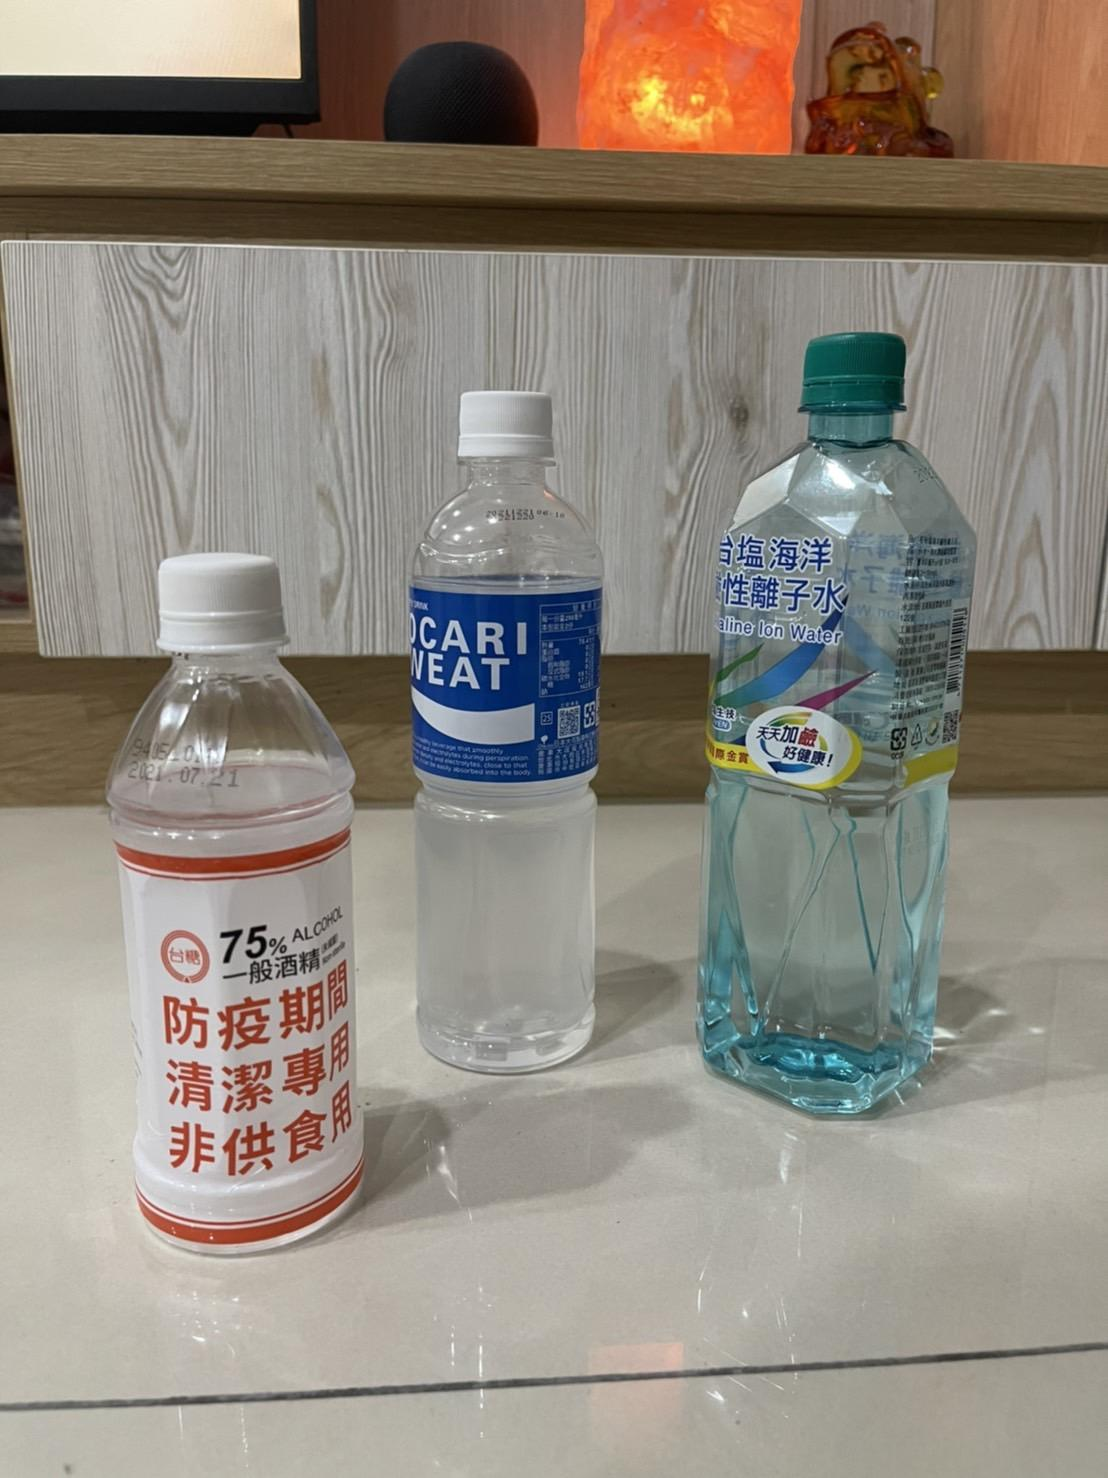bottle: (329, 371, 557, 1080), (83, 902, 386, 910), (616, 722, 946, 726)
